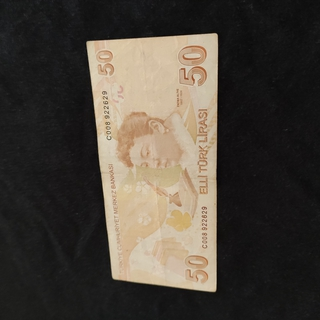50TLBack: (86, 32, 218, 293)
